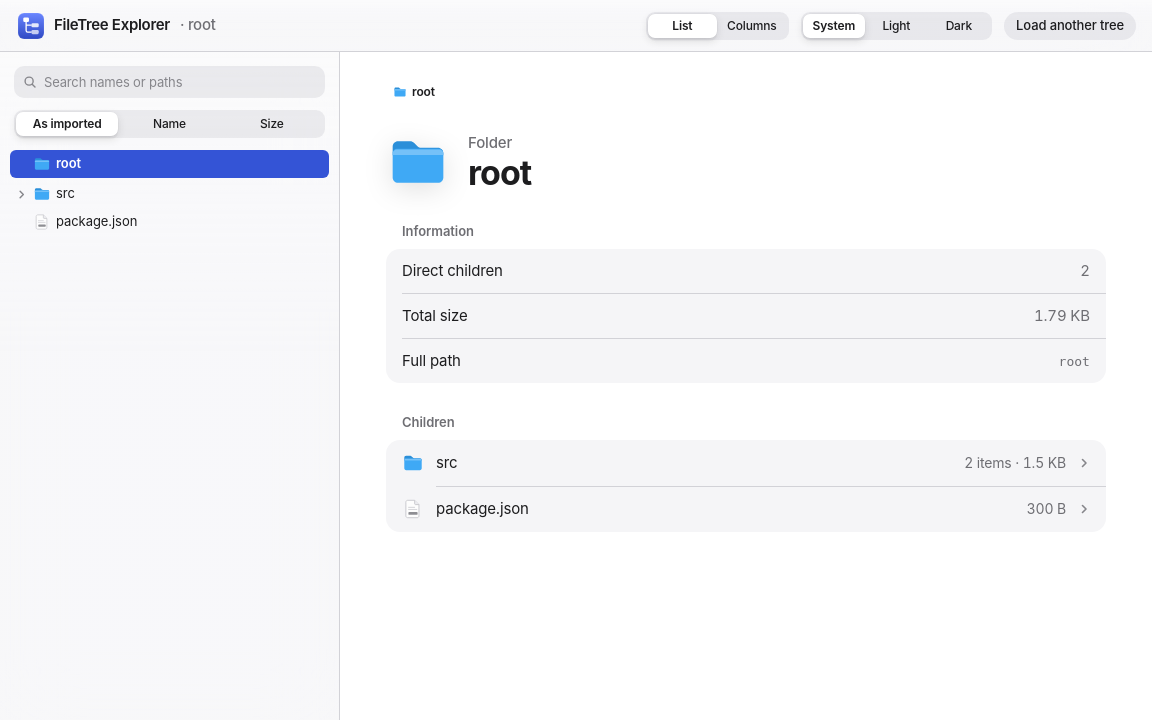
browsing the tree › collapses an expanded folder
Click the button named "Expand src" at (21, 194), box [12,185,30,203]
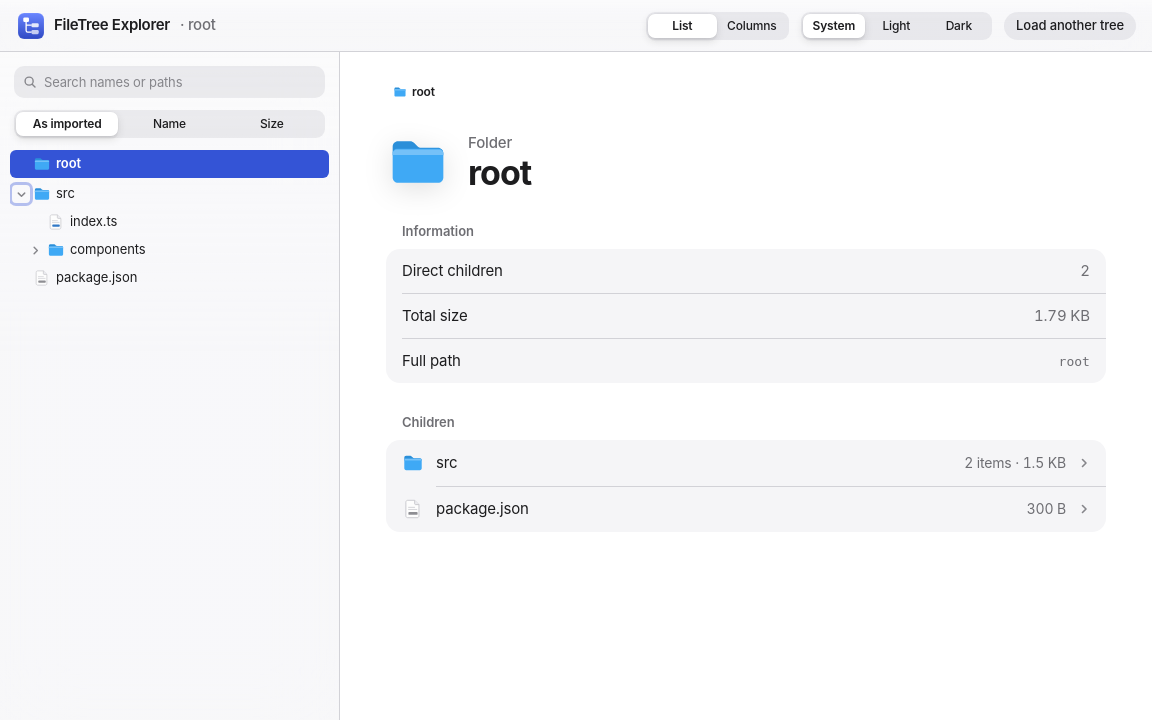
Click the button named "Collapse src" at (21, 194), box [12,185,30,203]
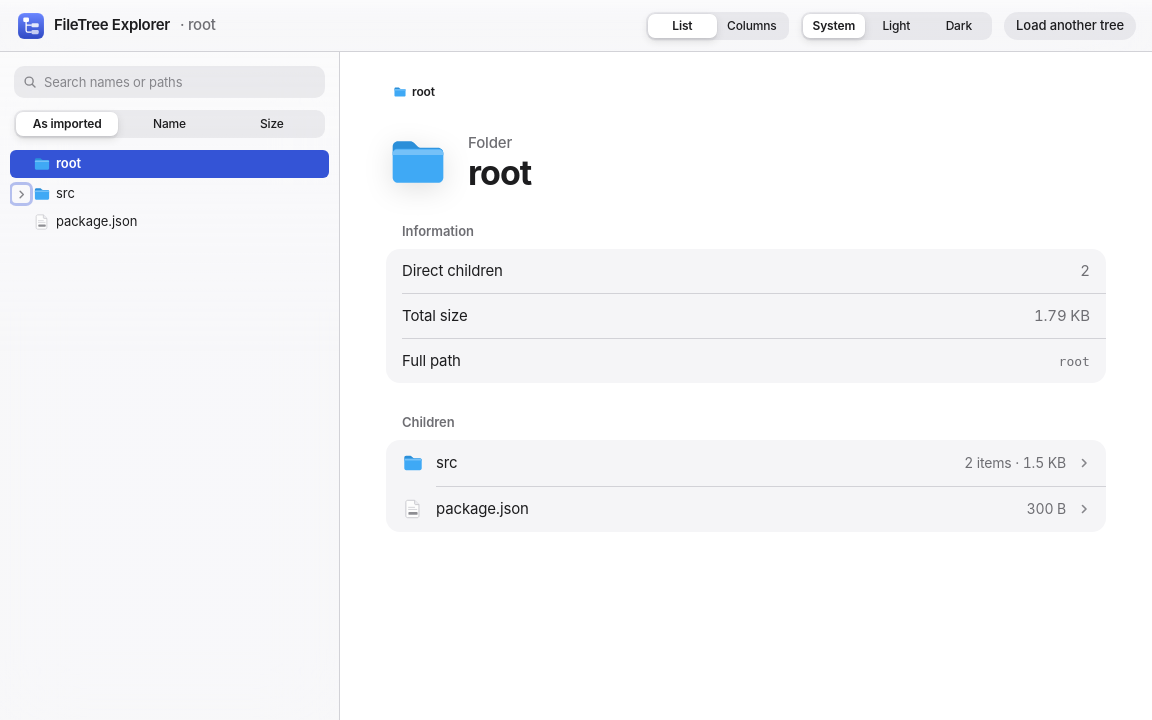
Check: the list item "src" is collapsed, box [12,185,75,203]
Check: the link "index.ts" is gone
